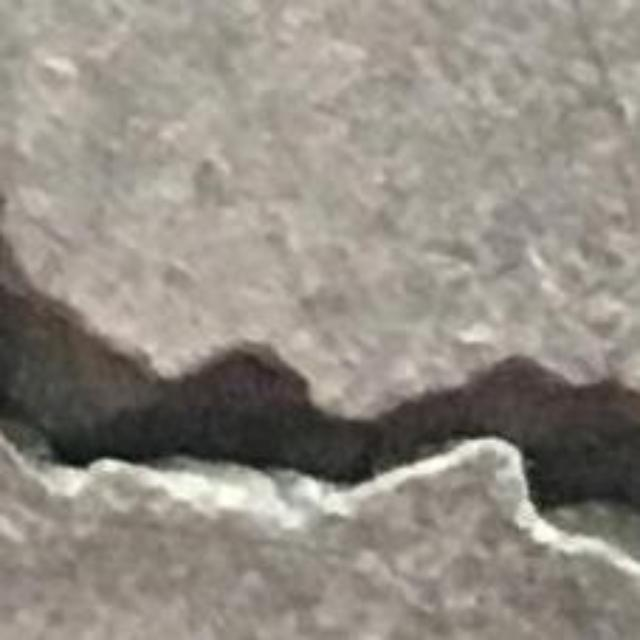crack: (0, 235, 639, 566)
